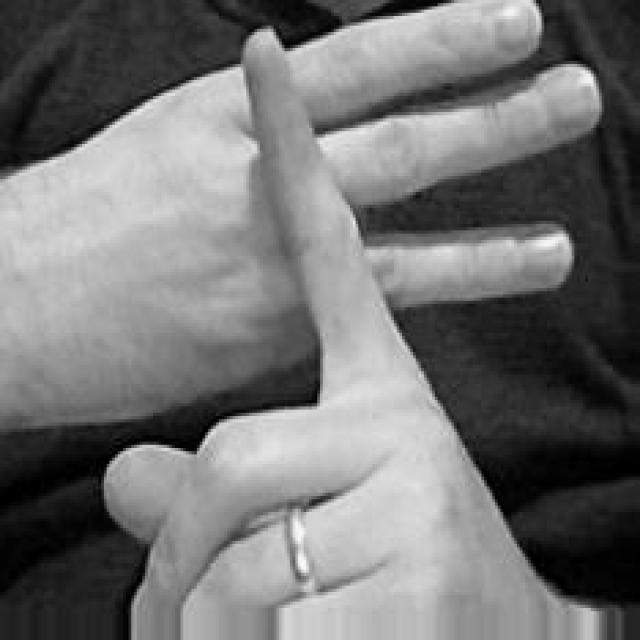E: (101, 1, 640, 640)
